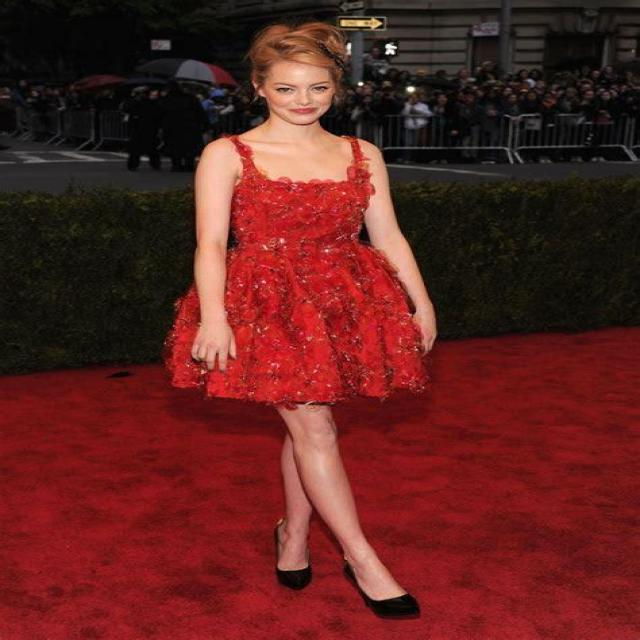dress: (167, 131, 427, 409)
